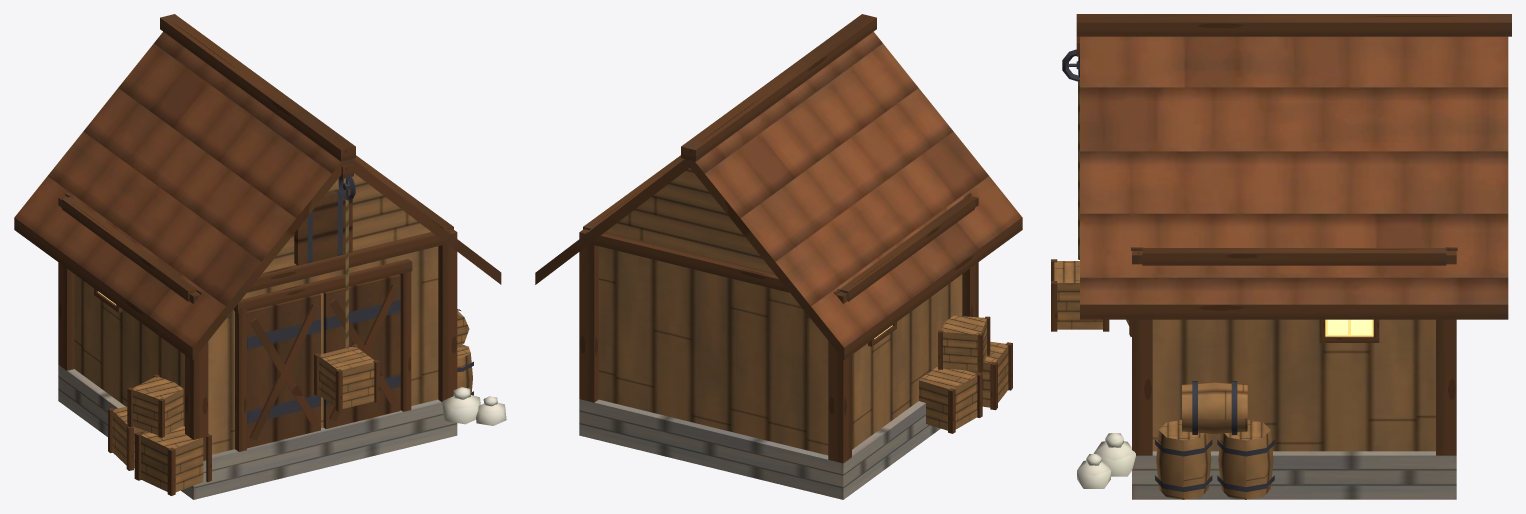
File: warehouse.glb
3 renders of one model, left to right at view 1: azimuth 30°, elevation 25°; view 2: azimuth 150°, elevation 25°; view 3: azimuth 270°, elevation 25°, orthographic. The views are drawn at different scales.
Parts seen in each view (by area): view 1: warehouse; view 2: warehouse; view 3: warehouse.
Boxes of the visible parts, x1,y1,x2,y2 form: warehouse: [14, 14, 506, 499]; warehouse: [535, 14, 1022, 499]; warehouse: [1051, 14, 1511, 499].
Size of the model in its own units: 6.78 by 6.45 by 6.67.
4 materials, 4 textured.
